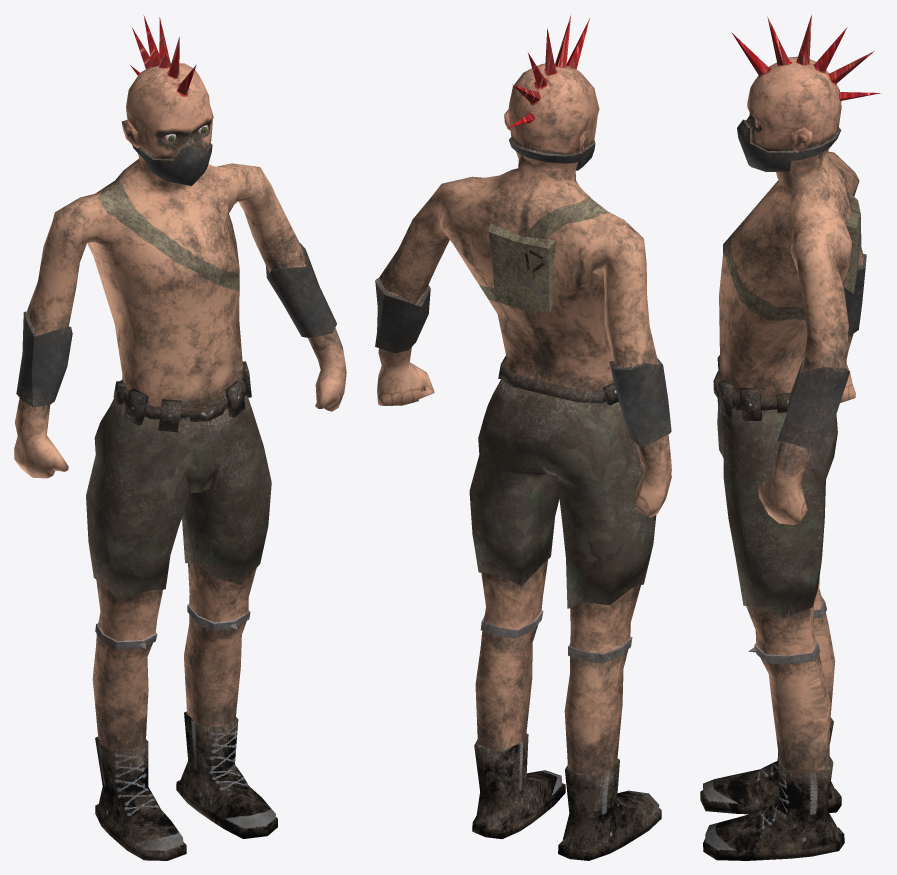
The model's file is Anim_ganar_1_npc2.0012.obj.
3 renders of one model, left to right at view 1: azimuth 30°, elevation 25°; view 2: azimuth 150°, elevation 25°; view 3: azimuth 270°, elevation 25°, orthographic. The views are drawn at different scales.
Parts seen in each view (by area): view 1: polySurface1; view 2: polySurface1; view 3: polySurface1.
Boxes of the visible parts, left/top/right/bottom form: polySurface1: left=14, top=15, right=346, bottom=860; polySurface1: left=375, top=14, right=671, bottom=860; polySurface1: left=700, top=15, right=881, bottom=860.
Size of the model in its own units: 4.09 by 10.17 by 2.07.
